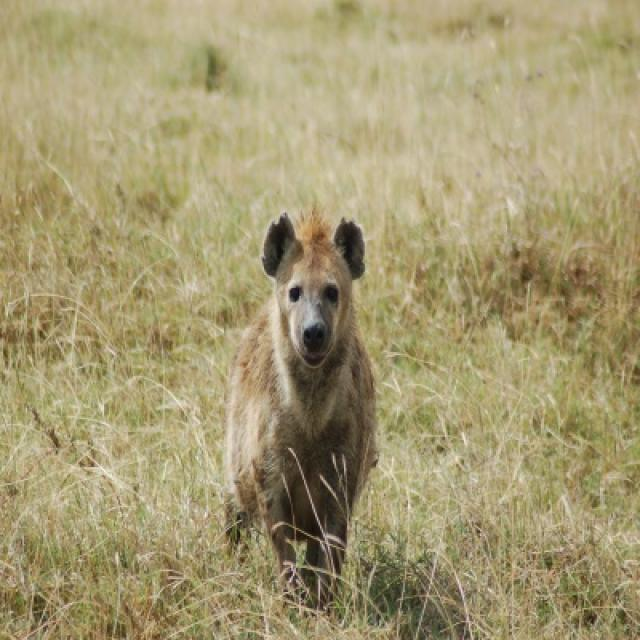hyena: (222, 210, 381, 616)
